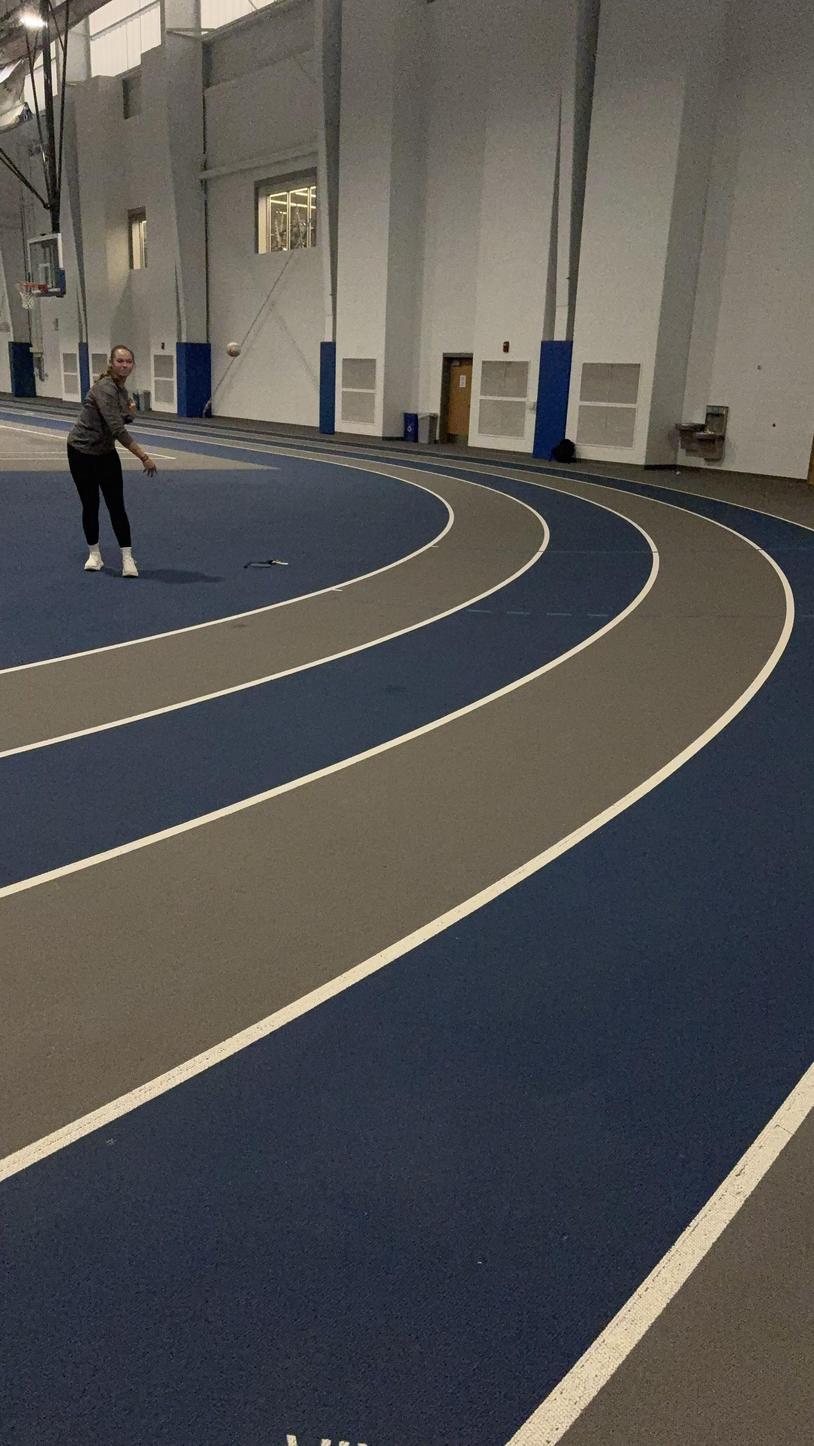Baseball: (223, 339, 245, 360)
